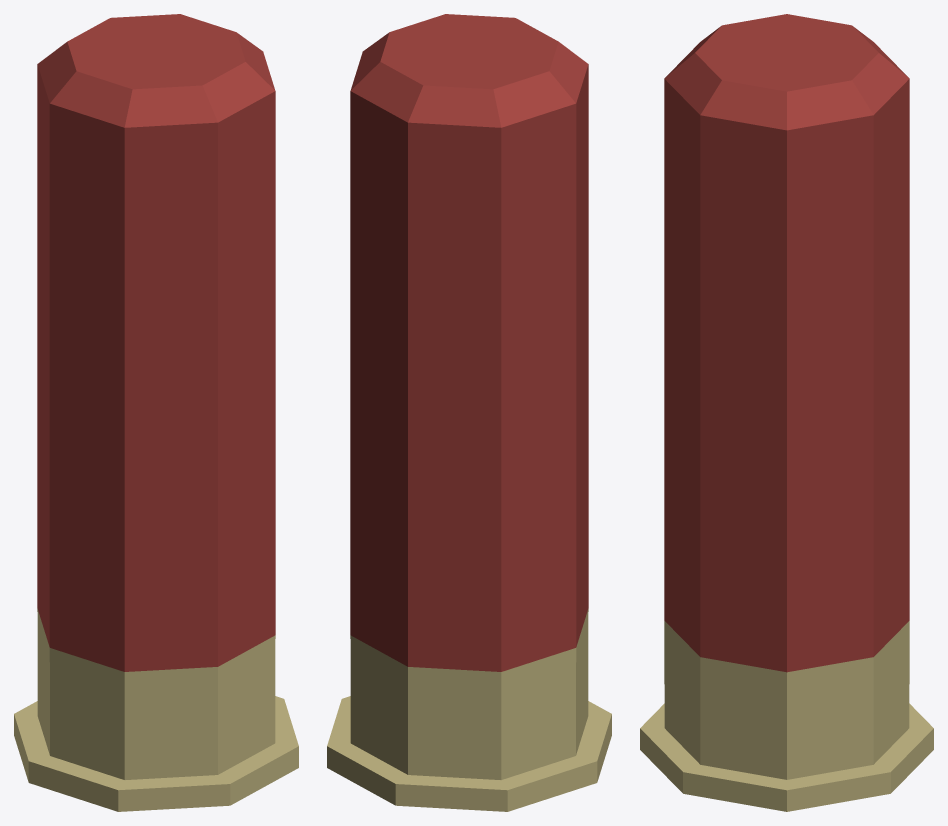
File: CRT-CHV.fbx
3 renders of one model, left to right at view 1: azimuth 30°, elevation 25°; view 2: azimuth 150°, elevation 25°; view 3: azimuth 270°, elevation 25°, orthographic.
Parts seen in each view (by area): view 1: Cylinder.002; view 2: Cylinder.002; view 3: Cylinder.002.
Boxes of the visible parts, x1,y1,x2,y2 form: Cylinder.002: [14, 14, 298, 811]; Cylinder.002: [327, 14, 611, 811]; Cylinder.002: [640, 14, 933, 811].
Size of the model in its own units: 39.87 by 104 by 39.87.
